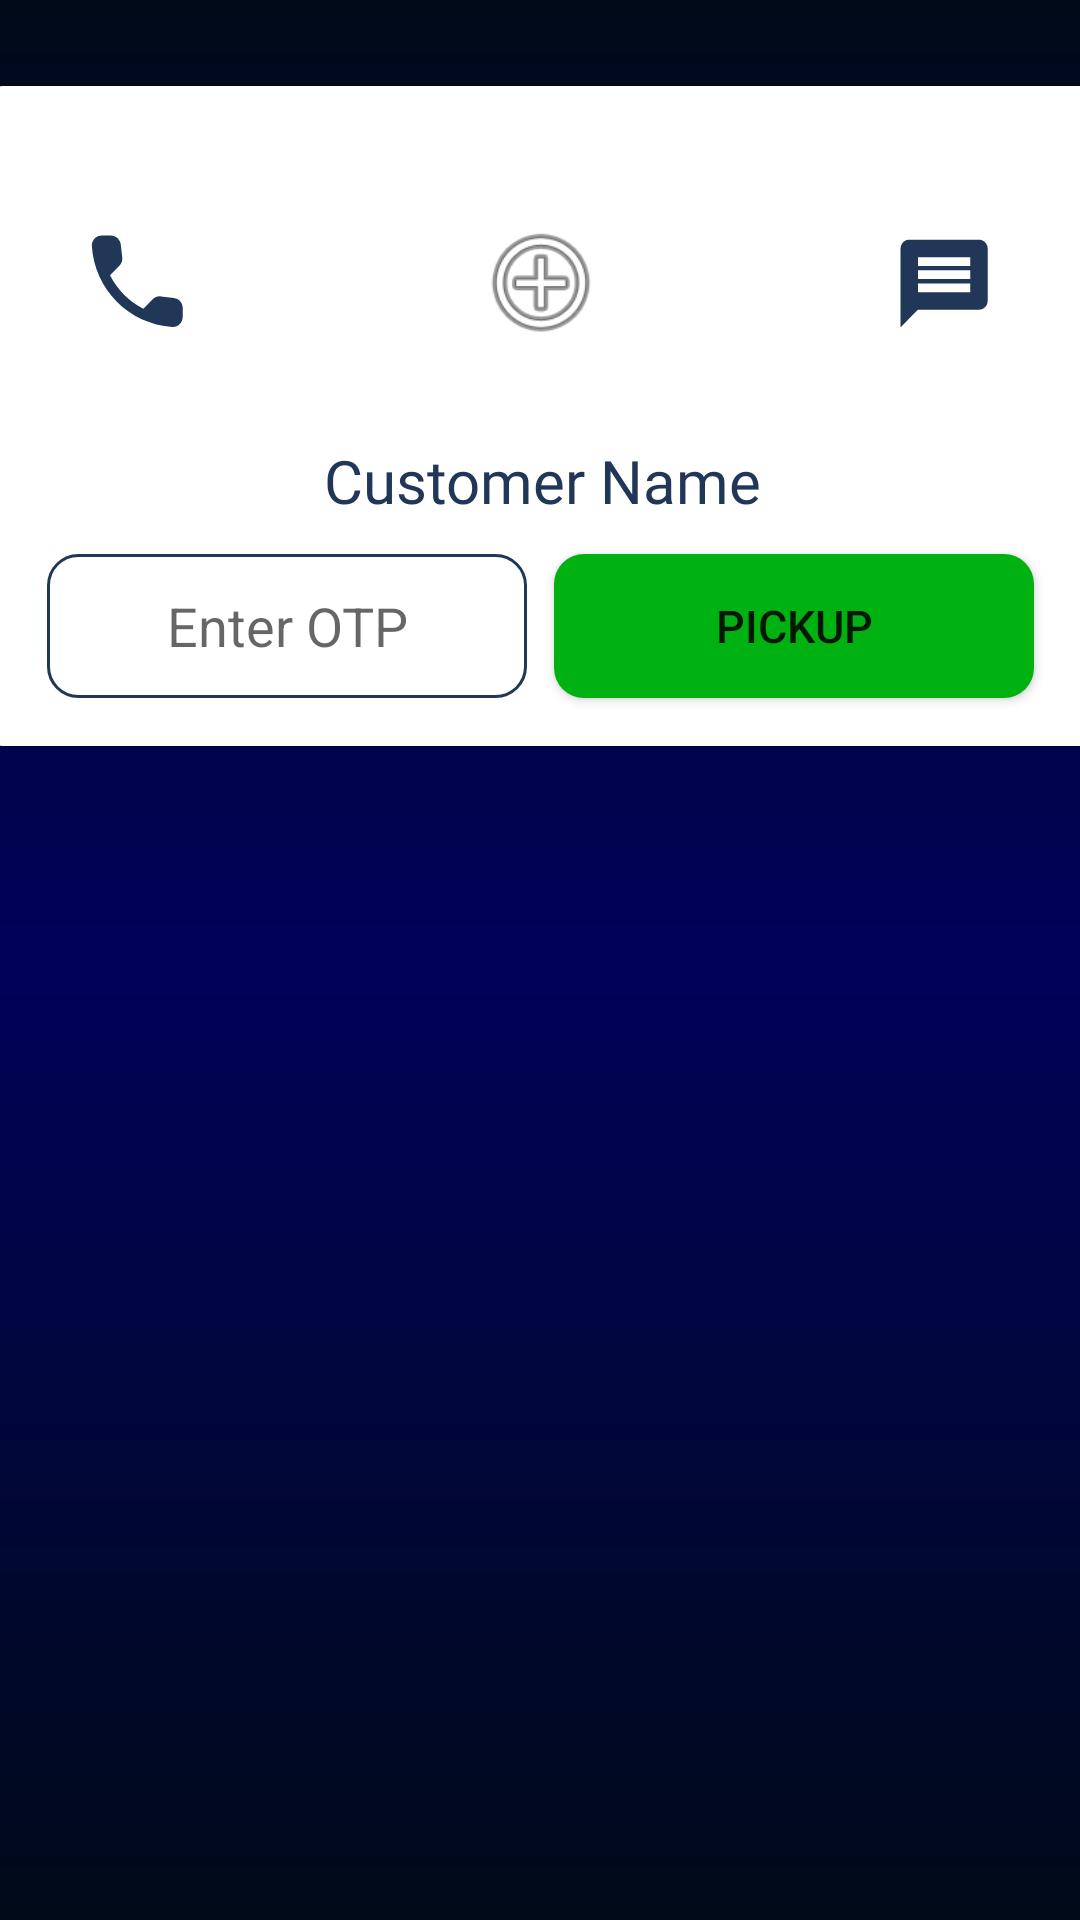

Named icons in this screenshot (1080 x 1920) and their centers, point (x, y):
add: point (541, 283)
call: point (137, 281)
message: point (944, 283)
